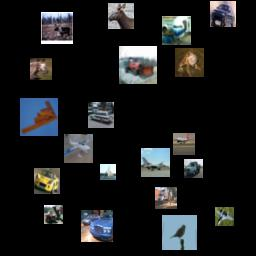airplane: (20, 98, 58, 136), (64, 134, 93, 163), (162, 16, 191, 45), (141, 148, 170, 177), (173, 133, 195, 155), (215, 207, 234, 226)
automobile: (81, 210, 113, 242), (210, 1, 236, 27), (88, 102, 114, 128), (34, 168, 60, 194)
bird: (162, 215, 197, 250)
deer: (41, 12, 73, 44), (108, 3, 134, 29)
frog: (175, 48, 204, 77)
ship: (100, 164, 116, 180)
truck: (119, 46, 157, 84), (155, 187, 177, 209), (44, 205, 63, 224), (184, 159, 203, 178)
